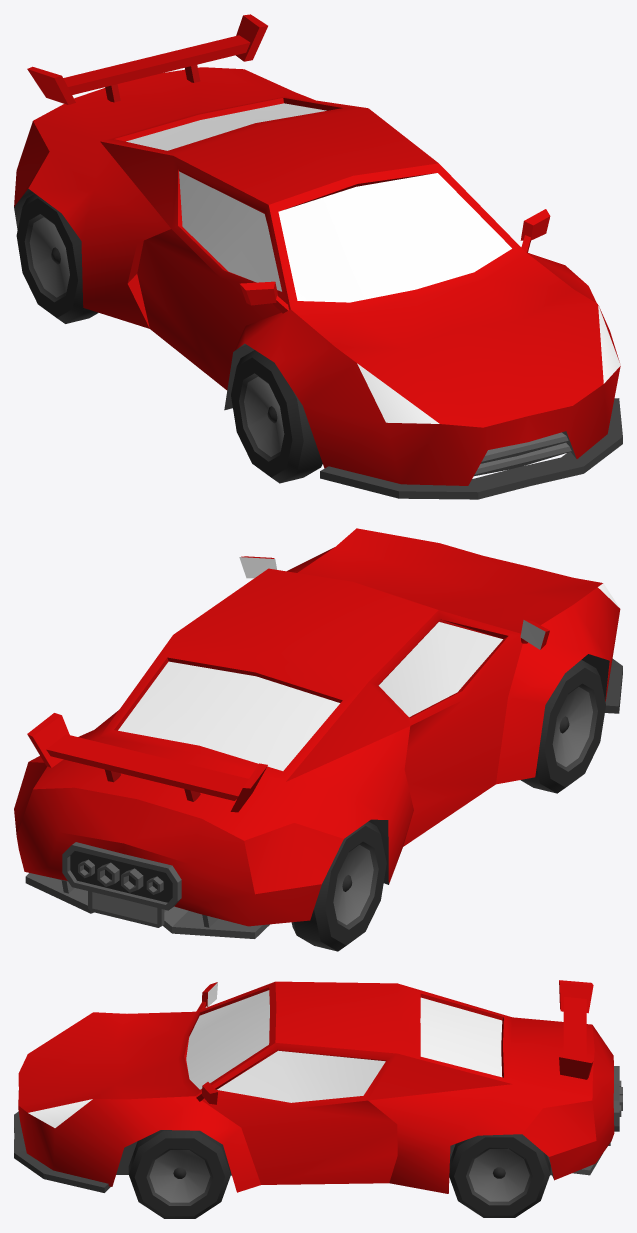
Rendered from lamb.glb.
3 views of the same model, one above another, from view 1: azimuth 30°, elevation 25°; view 2: azimuth 150°, elevation 25°; view 3: azimuth 270°, elevation 25° (orthographic). The views are drawn at different scales.
Parts seen in each view (by area): view 1: lamb, wheels.001, wheels; view 2: lamb, wheels, wheels.001; view 3: lamb, wheels.056, wheels.057.
Boxes of the visible parts, x1=… form: lamb: x1=14, y1=14, x2=622, y2=499; wheels.001: x1=231, y1=350, x2=322, y2=483; wheels: x1=16, y1=194, x2=98, y2=323; lamb: x1=14, y1=528, x2=622, y2=938; wheels: x1=291, y1=821, x2=386, y2=951; wheels.001: x1=520, y1=660, x2=605, y2=793; lamb: x1=14, y1=980, x2=622, y2=1193; wheels.056: x1=128, y1=1130, x2=230, y2=1218; wheels.057: x1=449, y1=1134, x2=550, y2=1217.
Bounding box in the file's own units: 2.07 × 1.33 × 4.62.
Materials: 3 (2 with a texture image).
